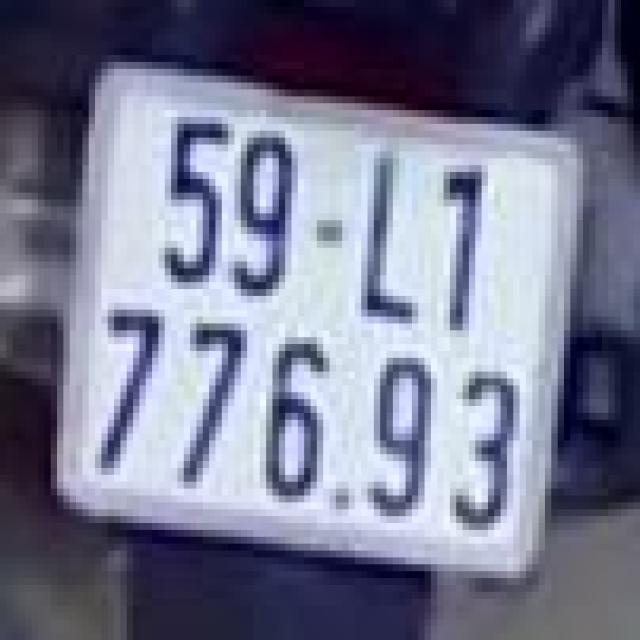1: (434, 158, 504, 344)
3: (450, 362, 526, 540)
5: (156, 103, 232, 289)
6: (257, 330, 339, 510)
7: (92, 300, 174, 486), (178, 320, 247, 499)
9: (222, 124, 310, 316), (364, 354, 440, 526)
L: (345, 138, 428, 324)
